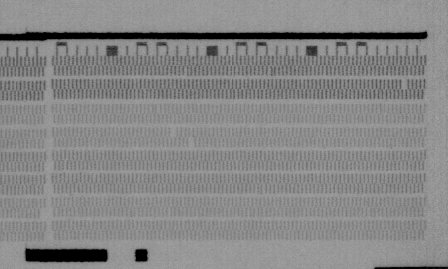Broken hole: (167, 126, 180, 139), (36, 207, 48, 219), (399, 78, 410, 91), (185, 136, 196, 148)
Oblique printing: (265, 65, 278, 77)
